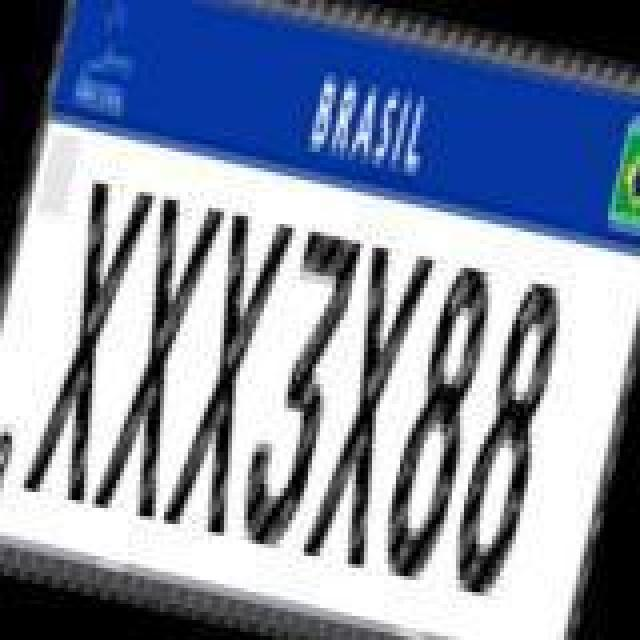3: (230, 226, 362, 558)
8: (372, 256, 508, 592), (440, 274, 576, 606)
X: (92, 192, 228, 528), (20, 178, 156, 510), (160, 210, 296, 542), (300, 242, 436, 574)
